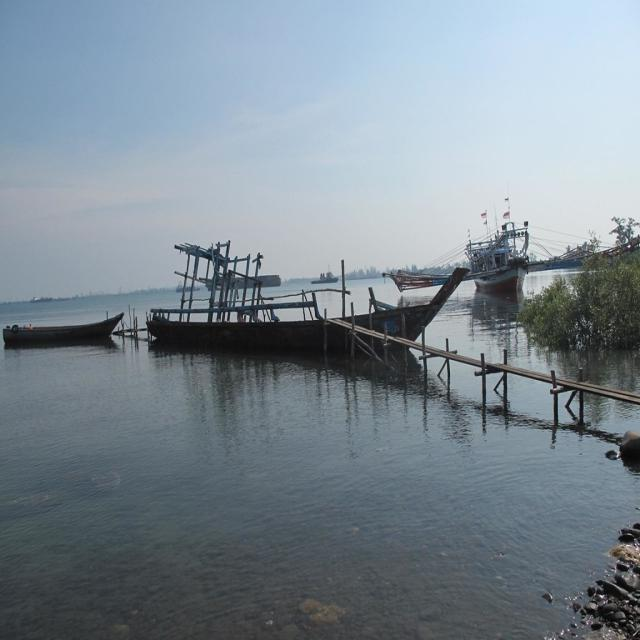boat: (123, 257, 470, 364), (0, 309, 127, 359), (463, 234, 534, 302), (309, 274, 344, 286)
